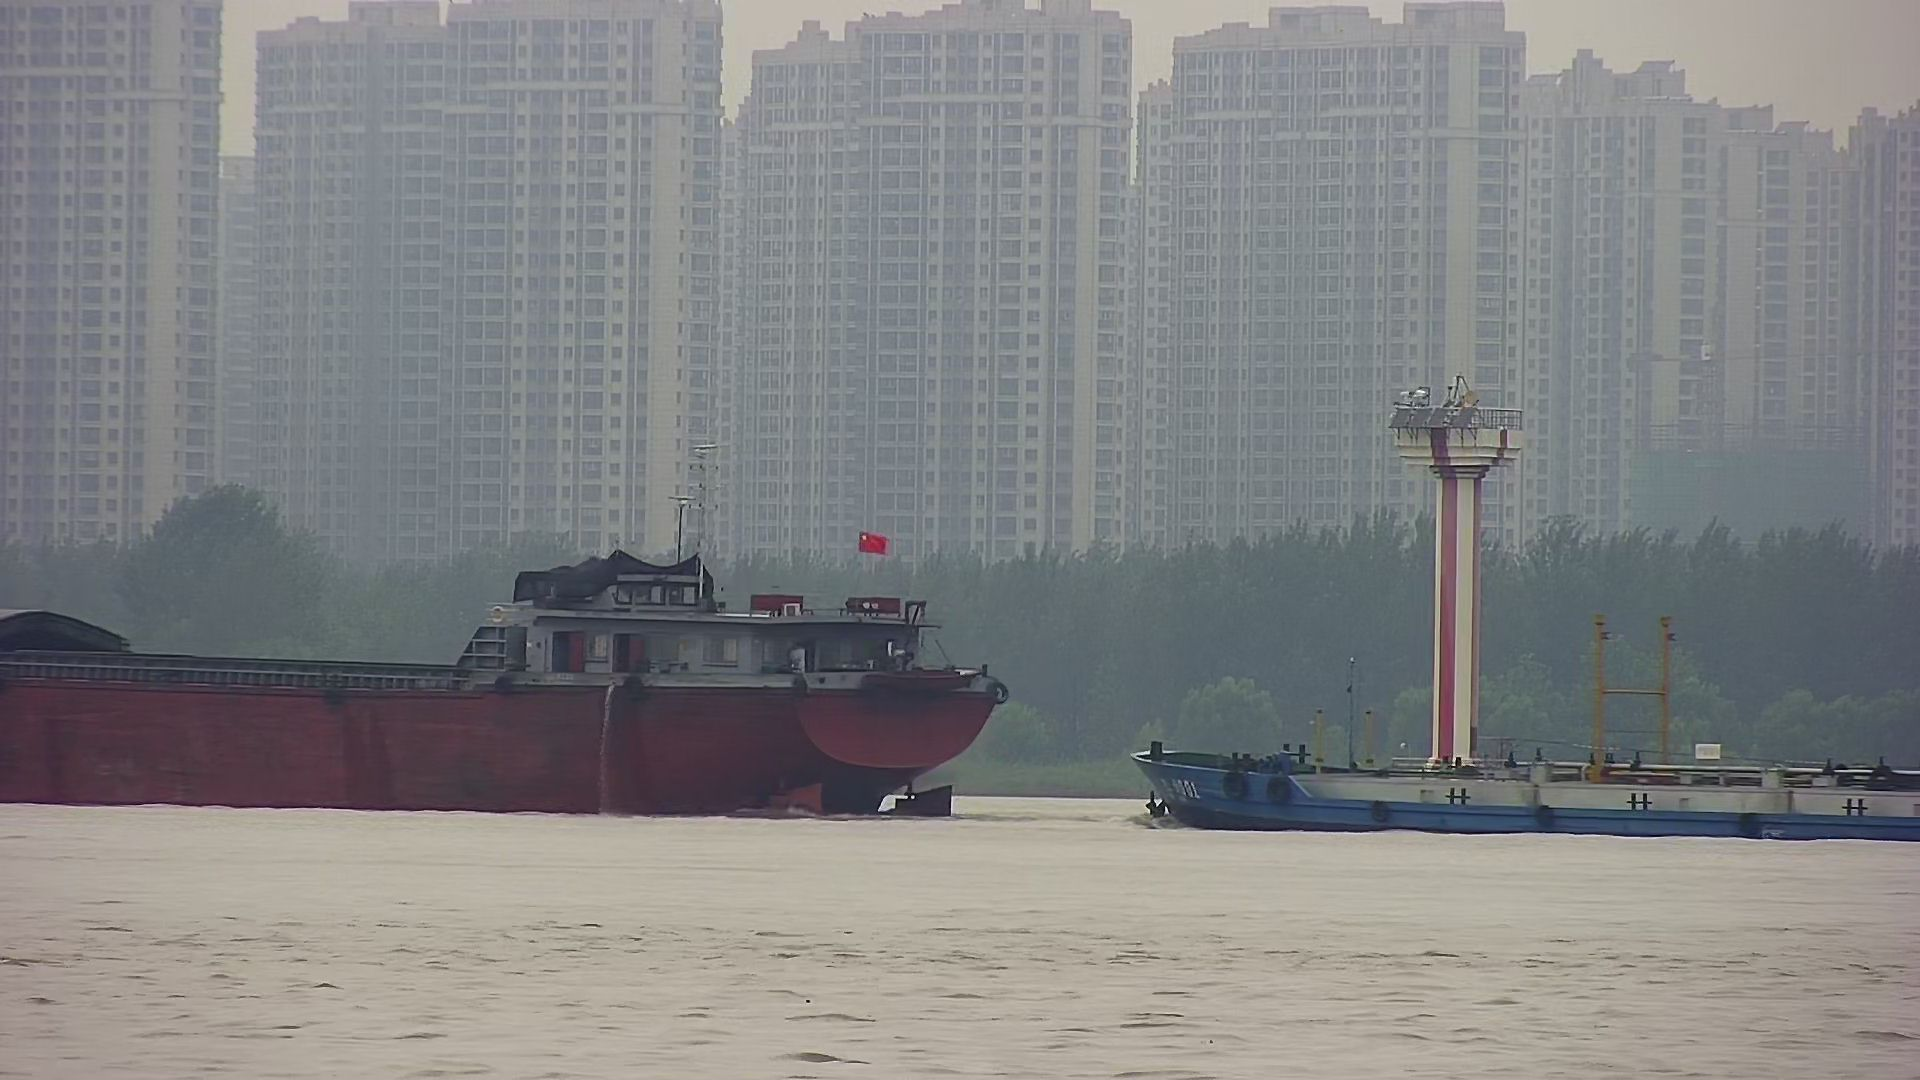platform: (1390, 369, 1528, 864)
ship: (3, 451, 1009, 835), (1131, 609, 1920, 851)
